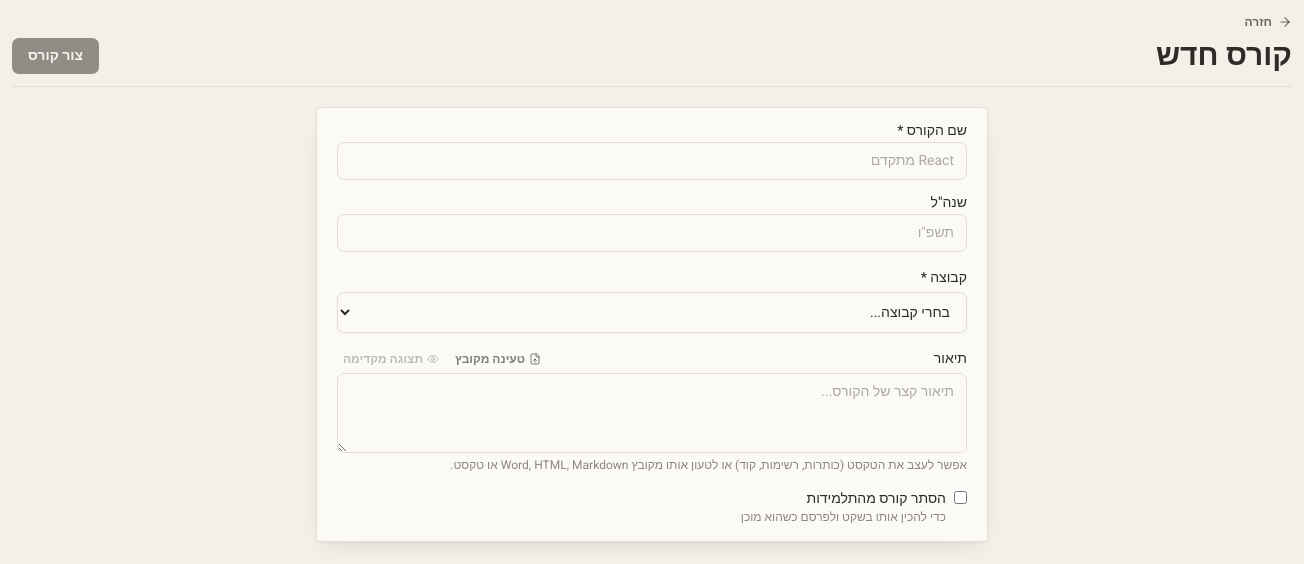
it: CourseFormPage (new) › disables submit until name and group are set
The image size is (1304, 564).
Check: the button "צור קורס" is disabled, box 12,38 -> 99,74
In the field with placeholder "React מתקדם": x=652, y=161 337,142 -> 967,180, type "קורס חדש"
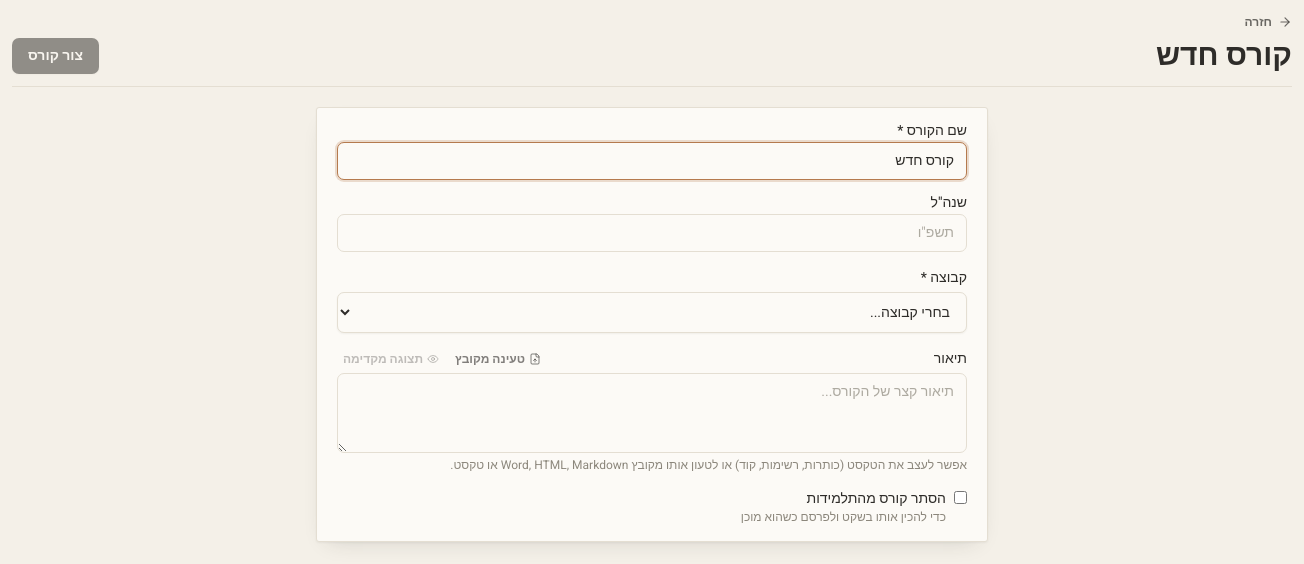
Select "קבוצה א 2026" in the dropdown: x=652, y=312 337,292 -> 967,333
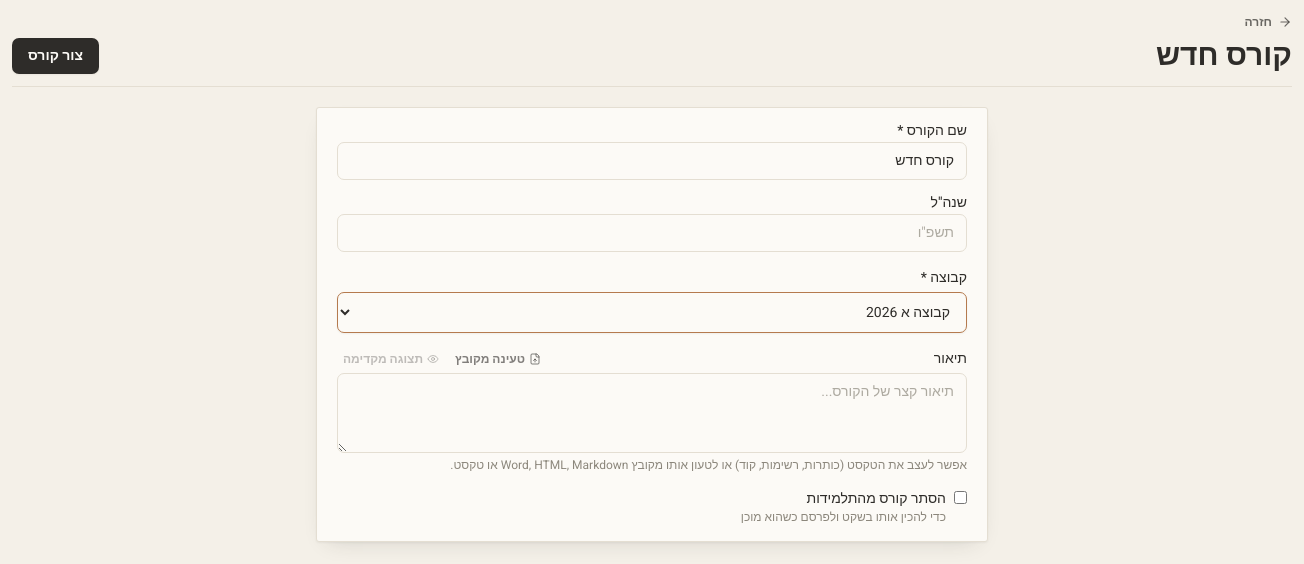
Check: the button "צור קורס" is enabled, box 12,38 -> 99,74
